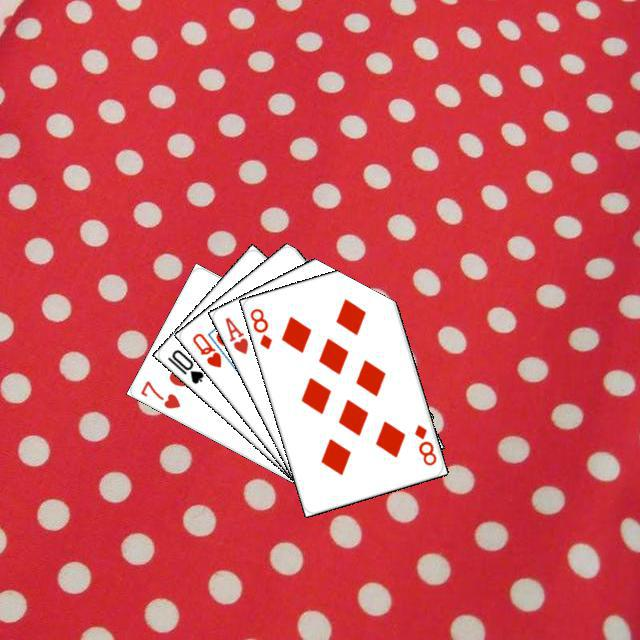10s: (162, 344, 206, 386)
7h: (135, 375, 182, 410)
8d: (245, 303, 274, 351), (409, 420, 438, 467)
Ah: (220, 312, 250, 356)
Qh: (187, 328, 223, 369)
